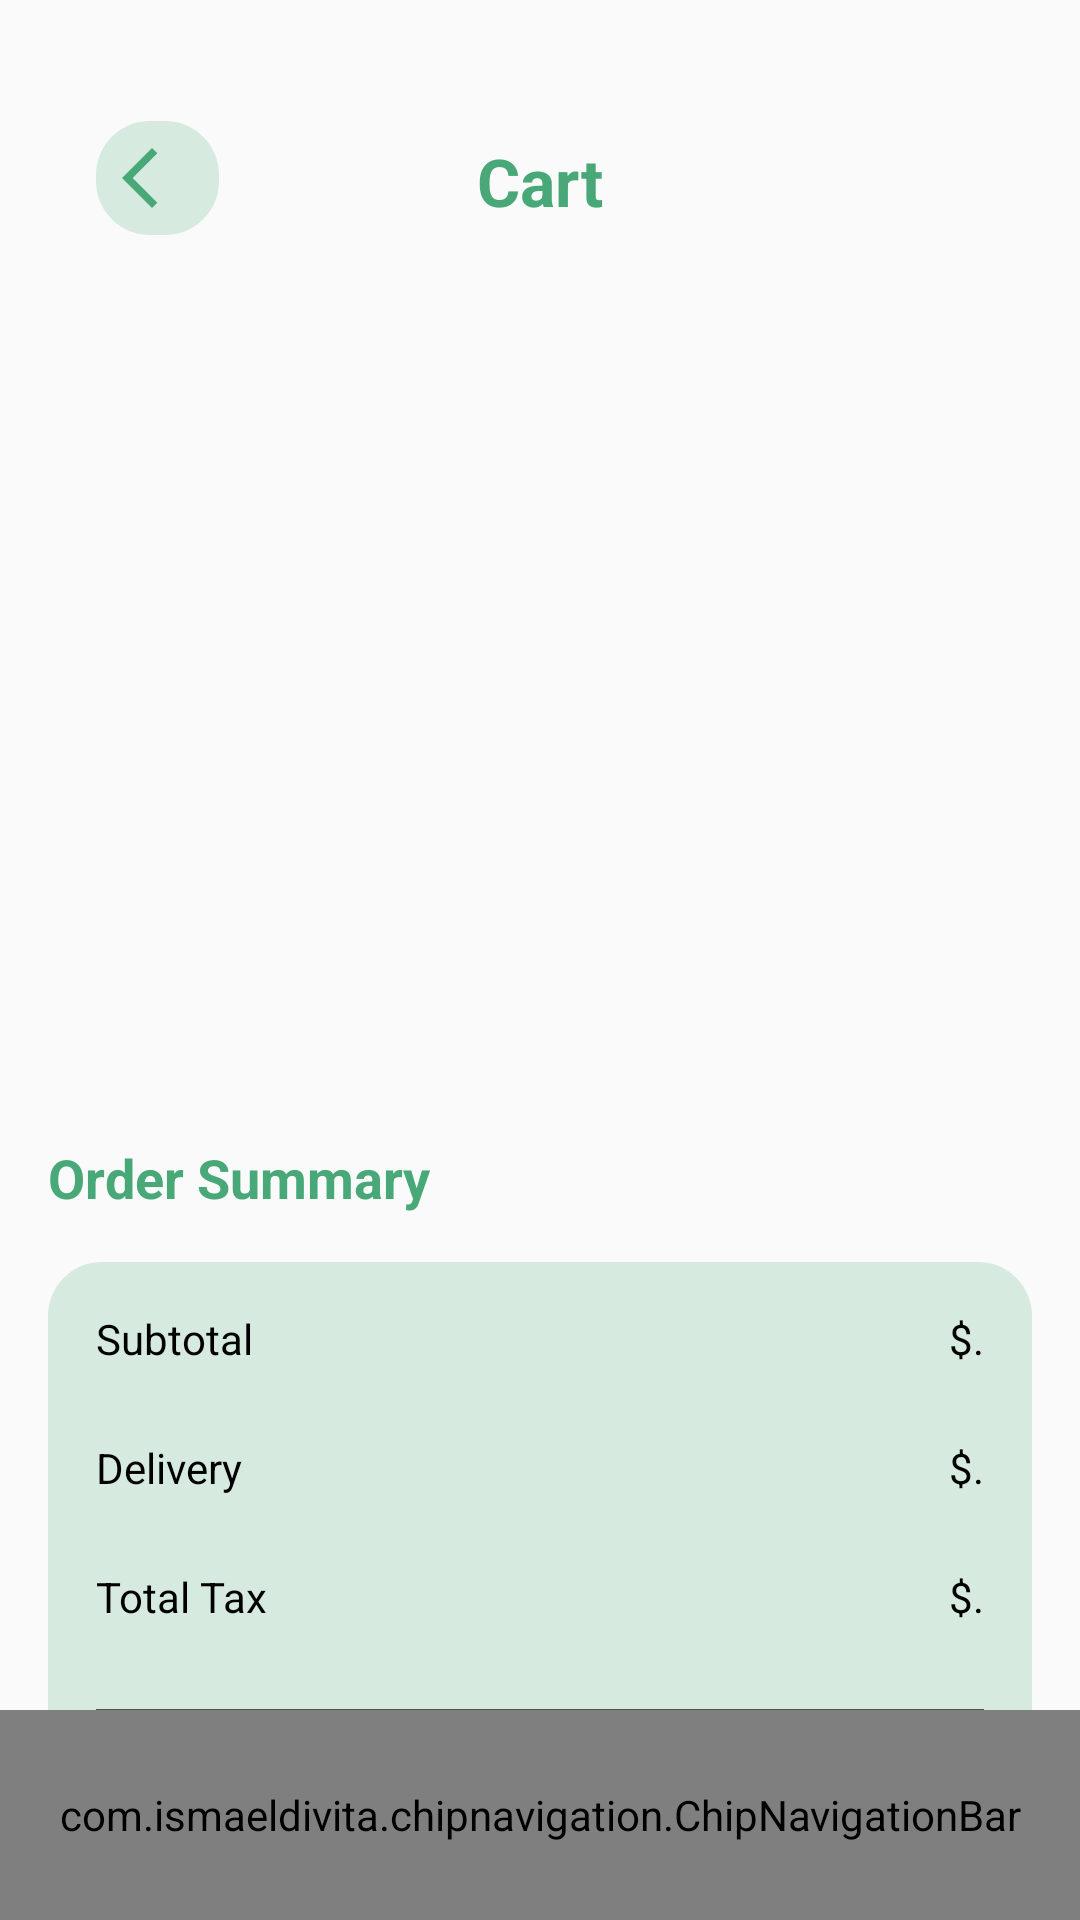

Icons on this 1080 x 1920 Android screen, each with the point to tap as point (x, y):
arrowback: point (157, 178)
